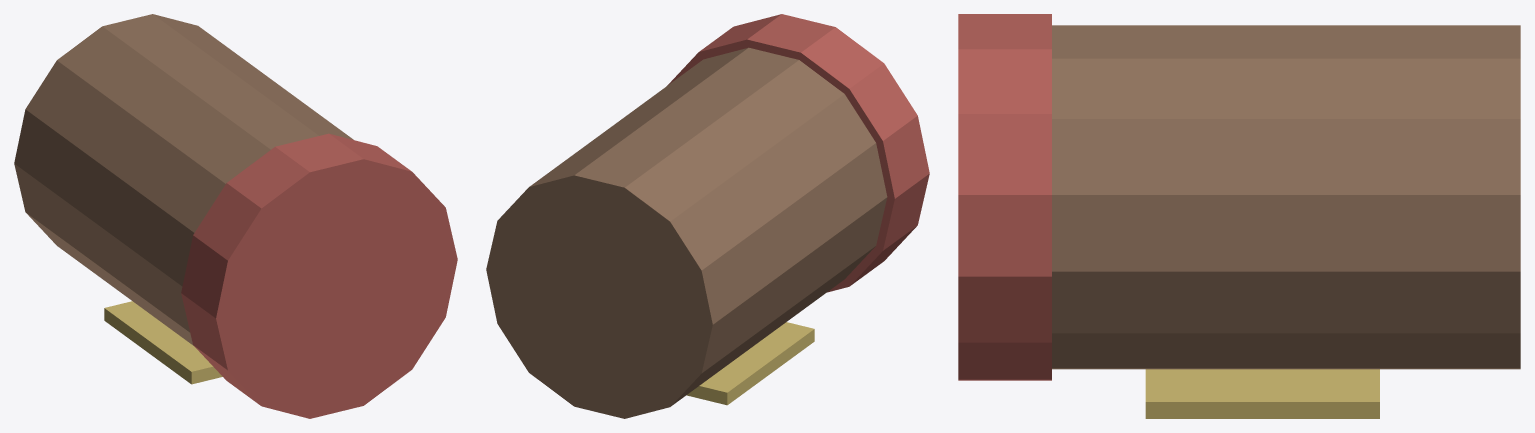
The model's file is peanut_butter.glb.
3 views of the same model, side by side, from view 1: azimuth 30°, elevation 25°; view 2: azimuth 150°, elevation 25°; view 3: azimuth 270°, elevation 25° (orthographic). The views are drawn at different scales.
Parts seen in each view (by area): view 1: 01_lid, 00_jar, 02_label; view 2: 00_jar, 01_lid, 02_label; view 3: 00_jar, 01_lid, 02_label.
Part boxes in pixels (left/top/right/bottom): 01_lid: left=181, top=133, right=457, bottom=418; 00_jar: left=14, top=14, right=353, bottom=345; 02_label: left=104, top=301, right=222, bottom=384; 00_jar: left=486, top=47, right=887, bottom=418; 01_lid: left=667, top=14, right=929, bottom=292; 02_label: left=686, top=322, right=814, bottom=405; 00_jar: left=1052, top=25, right=1520, bottom=369; 01_lid: left=958, top=14, right=1051, bottom=380; 02_label: left=1145, top=369, right=1379, bottom=418.
Size of the model in its own units: 0.16 by 0.159 by 0.24.
